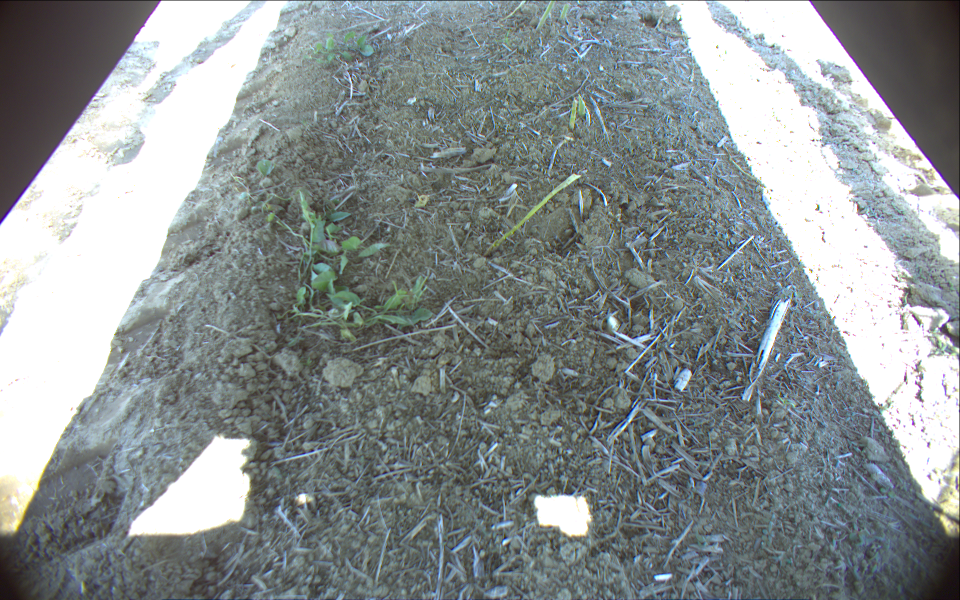aspa: (485, 173, 581, 256), (497, 1, 529, 22), (536, 1, 557, 30), (569, 97, 577, 129), (578, 95, 588, 119), (560, 2, 572, 21)
